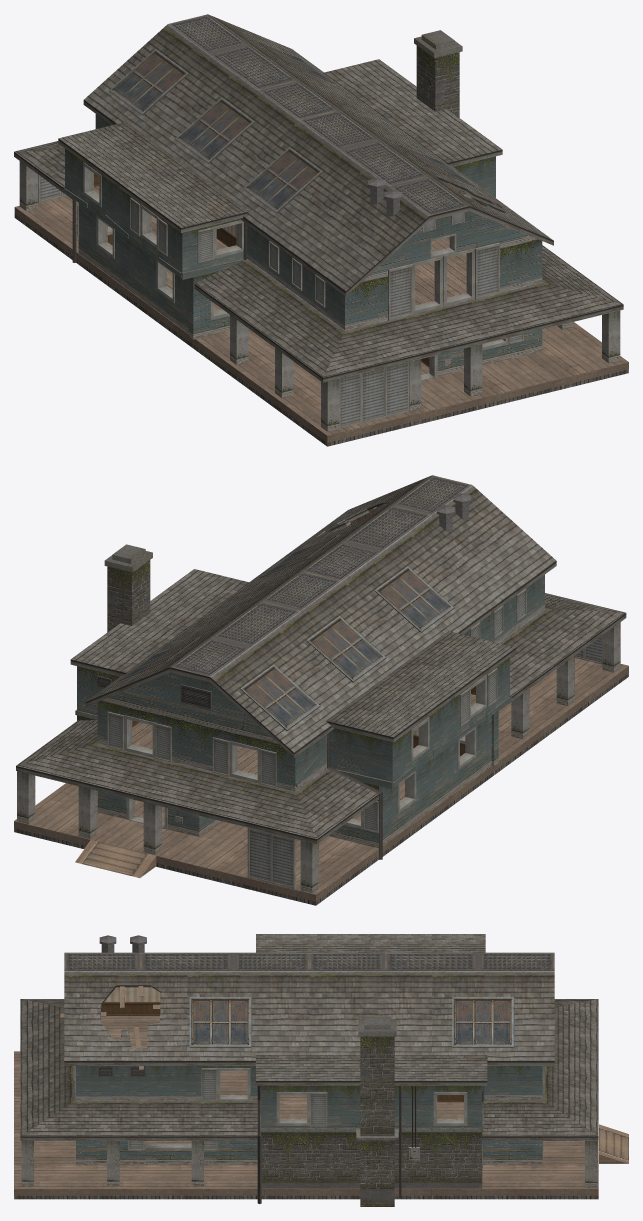
Rendered from MiniBR_Building003.fbx.
3 views of the same model, one above another, from view 1: azimuth 30°, elevation 25°; view 2: azimuth 150°, elevation 25°; view 3: azimuth 270°, elevation 25° (orthographic). The views are drawn at different scales.
Parts seen in each view (by area): view 1: MiniBR_Building003; view 2: MiniBR_Building003; view 3: MiniBR_Building003.
Boxes of the visible parts, x1,y1,x2,y2 form: MiniBR_Building003: [14, 14, 628, 446]; MiniBR_Building003: [14, 475, 628, 905]; MiniBR_Building003: [14, 934, 628, 1206].
Bounding box in the file's own units: 1647 × 2780 × 916.
